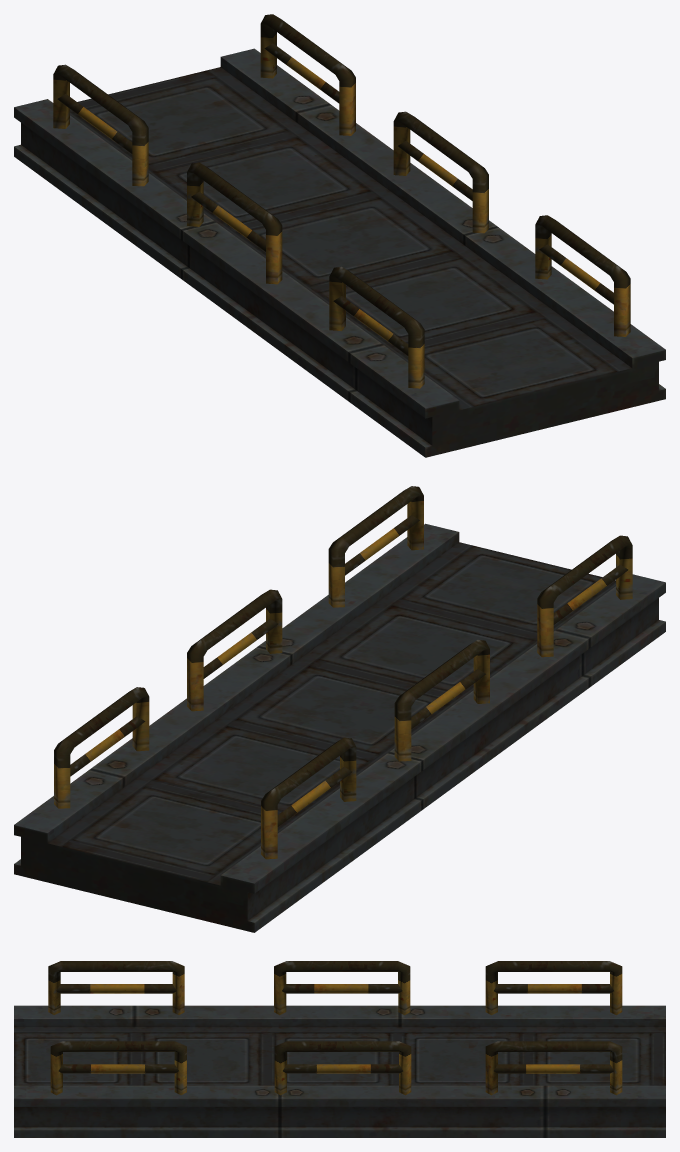
Rendered from Stage-gongchang-fujian4.FBX.
The picture shows the model from 3 angles, top to bottom: view 1: azimuth 30°, elevation 25°; view 2: azimuth 150°, elevation 25°; view 3: azimuth 270°, elevation 25°; orthographic projection. The views are drawn at different scales.
Parts seen in each view (by area): view 1: Object34; view 2: Object34; view 3: Object34.
Part boxes in pixels (bbox=[...]): Object34: bbox=[14, 14, 665, 457]; Object34: bbox=[14, 486, 665, 932]; Object34: bbox=[14, 961, 665, 1137].
Bounding box in the file's own units: 4.62 × 13.69 × 2.09.
